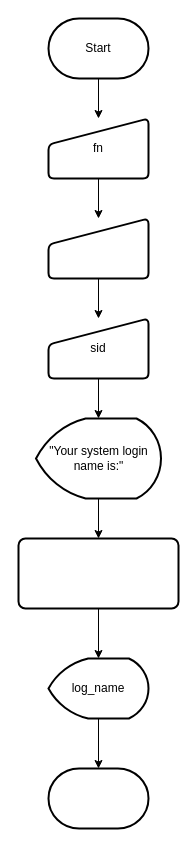
The diagram is 196 pixels wide and 846 high, and some of its shapes have lost their labels. Each missing label, with the box of its shape:
End: (47, 767, 149, 829)
la: (47, 217, 149, 279)
log_name = fn[0:3]+la[0:3]+sid[-3:]: (17, 537, 179, 609)
